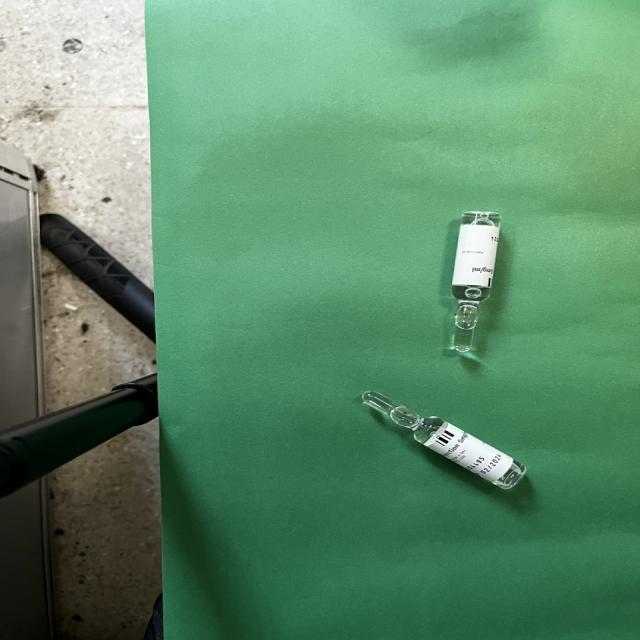Ampoules: (361, 391, 527, 492), (451, 212, 501, 352)
